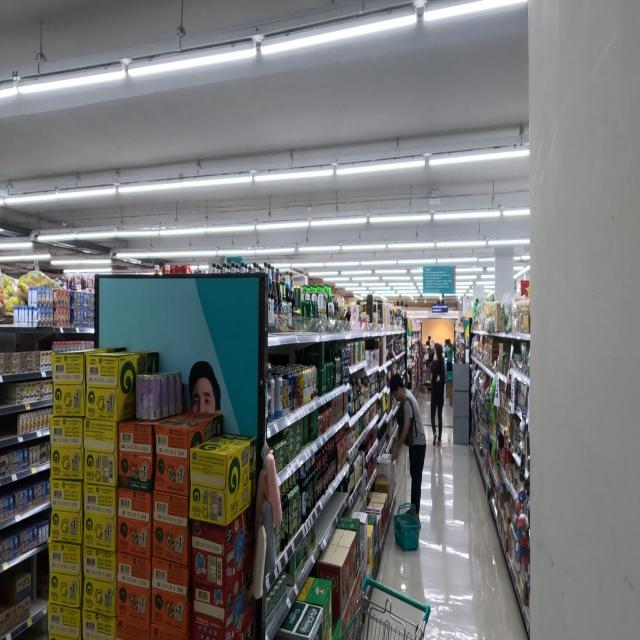shoplifting: (387, 363, 427, 538)
